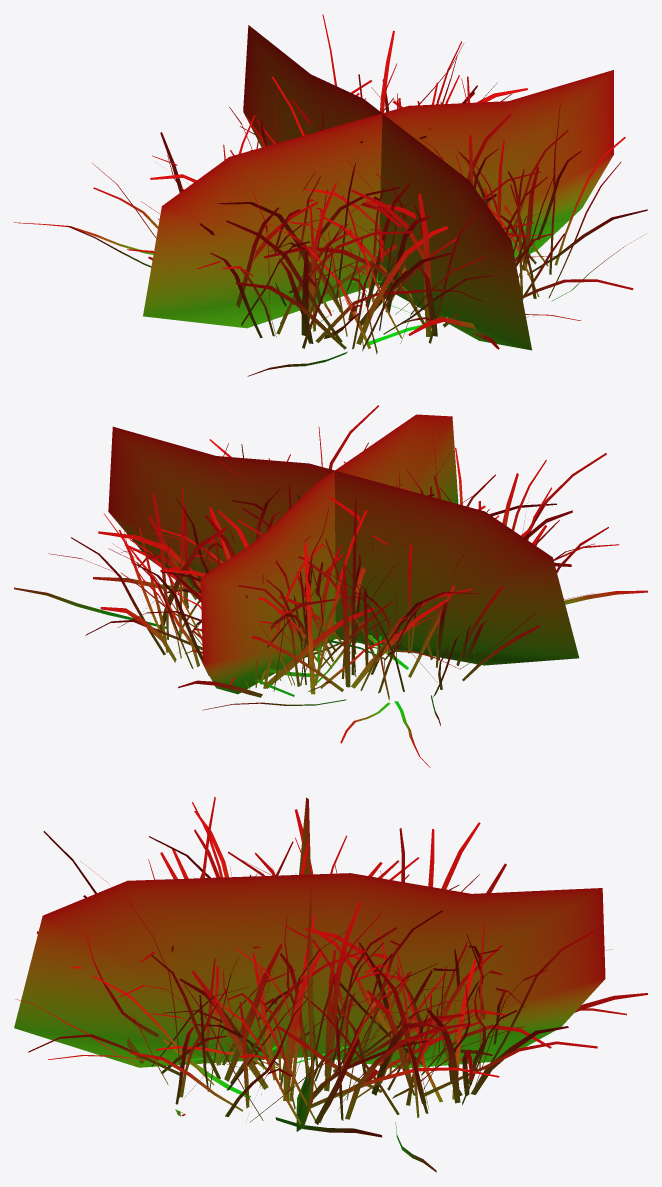
File: Var19_LOD2.fbx
3 renders of one model, top to bottom at view 1: azimuth 30°, elevation 25°; view 2: azimuth 150°, elevation 25°; view 3: azimuth 270°, elevation 25°, orthographic. The views are drawn at different scales.
Visible parts, largest first — view 1: _5kn0_Var19_LOD2; view 2: _5kn0_Var19_LOD2; view 3: _5kn0_Var19_LOD2.
Part boxes in pixels (left/top/right/bottom): _5kn0_Var19_LOD2: left=14, top=14, right=647, bottom=376; _5kn0_Var19_LOD2: left=14, top=405, right=647, bottom=767; _5kn0_Var19_LOD2: left=14, top=797, right=647, bottom=1172.
Bounding box in the file's own units: 49.64 × 15.73 × 47.65.
